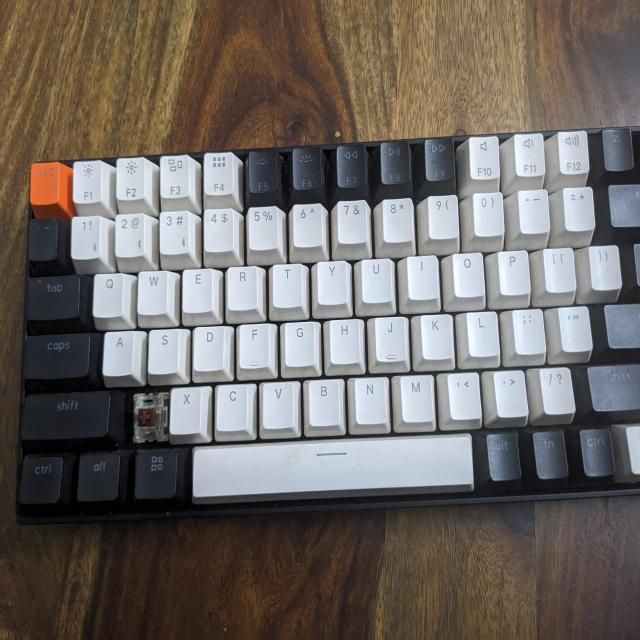C: (134, 392, 166, 438)
